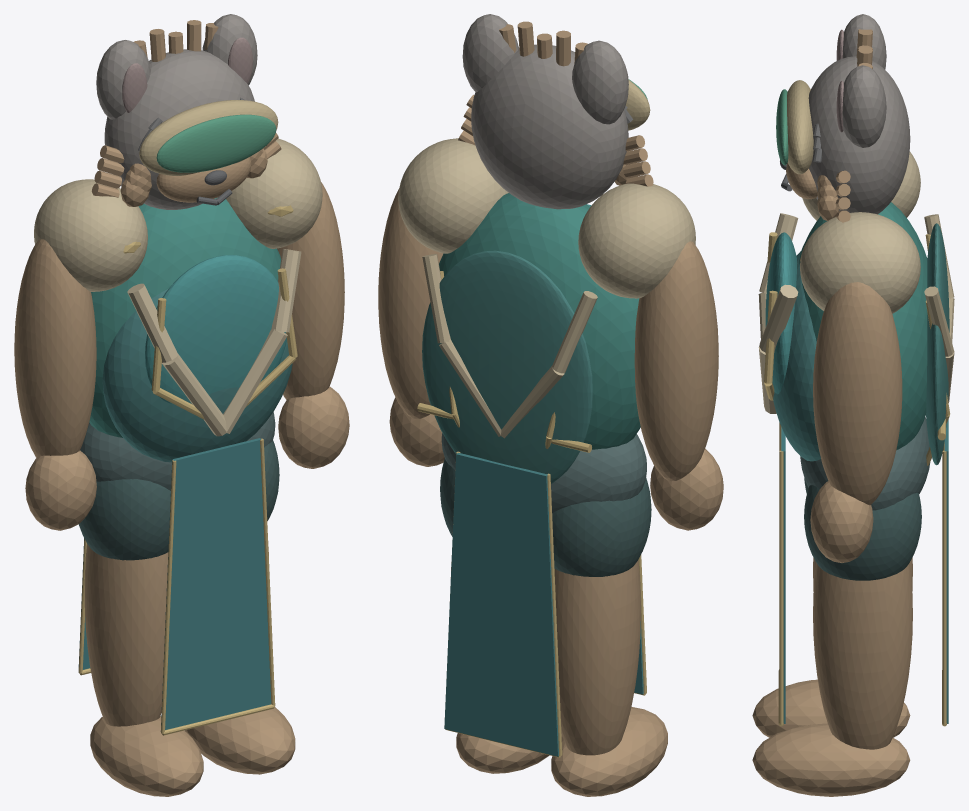
Rendered from high_prototype (3).glb.
The picture shows the model from 3 angles, left to right: view 1: azimuth 30°, elevation 25°; view 2: azimuth 150°, elevation 25°; view 3: azimuth 270°, elevation 25°; orthographic projection. The views are drawn at different scales.
Parts seen in each view (by area): view 1: front_hanging_fabric_062, arm_-1_006, leg_-1_004, chest_armor_055, belly_clothing_003, torso_001, gold_shoulder_-1_072, arm_1_012, head_016, paw_-1_005, gold_shoulder_1_075, short_leg_-1_060 (+19 smaller); view 2: back_hanging_fabric_066, back_coat_051, head_016, arm_-1_006, torso_001, leg_-1_004, gold_shoulder_-1_072, gold_shoulder_1_075, arm_1_012, short_leg_-1_060, paw_-1_005, hips_002 (+11 smaller); view 3: arm_1_012, leg_1_010, head_016, gold_shoulder_1_075, paw_1_011, torso_001, short_leg_1_061, belly_clothing_003, back_coat_051, hand_1_013, hips_002, ear_1_014 (+17 smaller).
Boxes of the visible parts, bbox=[...] form: front_hanging_fabric_062: bbox=[160, 438, 271, 731]; arm_-1_006: bbox=[14, 239, 96, 457]; leg_-1_004: bbox=[84, 544, 168, 726]; chest_armor_055: bbox=[145, 255, 286, 403]; belly_clothing_003: bbox=[102, 289, 292, 462]; torso_001: bbox=[89, 197, 281, 437]; gold_shoulder_-1_072: bbox=[34, 179, 147, 291]; arm_1_012: bbox=[277, 182, 344, 399]; head_016: bbox=[104, 49, 254, 209]; paw_-1_005: bbox=[90, 716, 203, 796]; gold_shoulder_1_075: bbox=[226, 138, 322, 248]; short_leg_-1_060: bbox=[79, 479, 170, 560]; back_hanging_fabric_066: bbox=[444, 452, 558, 756]; back_coat_051: bbox=[422, 250, 592, 483]; head_016: bbox=[471, 44, 628, 209]; arm_-1_006: bbox=[634, 241, 718, 480]; torso_001: bbox=[439, 193, 640, 449]; leg_-1_004: bbox=[554, 560, 640, 755]; gold_shoulder_-1_072: bbox=[578, 183, 695, 298]; gold_shoulder_1_075: bbox=[398, 138, 508, 253]; arm_1_012: bbox=[378, 188, 443, 418]; short_leg_-1_060: bbox=[552, 477, 651, 576]; paw_-1_005: bbox=[551, 707, 667, 796]; hips_002: bbox=[441, 433, 646, 512]; arm_1_012: bbox=[813, 282, 902, 505]; leg_1_010: bbox=[813, 562, 912, 749]; head_016: bbox=[808, 56, 910, 214]; gold_shoulder_1_075: bbox=[800, 212, 920, 313]; paw_1_011: bbox=[752, 723, 910, 796]; torso_001: bbox=[799, 202, 927, 449]; short_leg_1_061: bbox=[804, 485, 921, 580]; belly_clothing_003: bbox=[773, 251, 820, 461]; back_coat_051: bbox=[926, 223, 949, 465]; hand_1_013: bbox=[810, 481, 873, 562]; hips_002: bbox=[800, 417, 930, 510]; ear_1_014: bbox=[842, 65, 886, 147].
Size of the model in its own units: 0.69 by 1.53 by 0.384.
